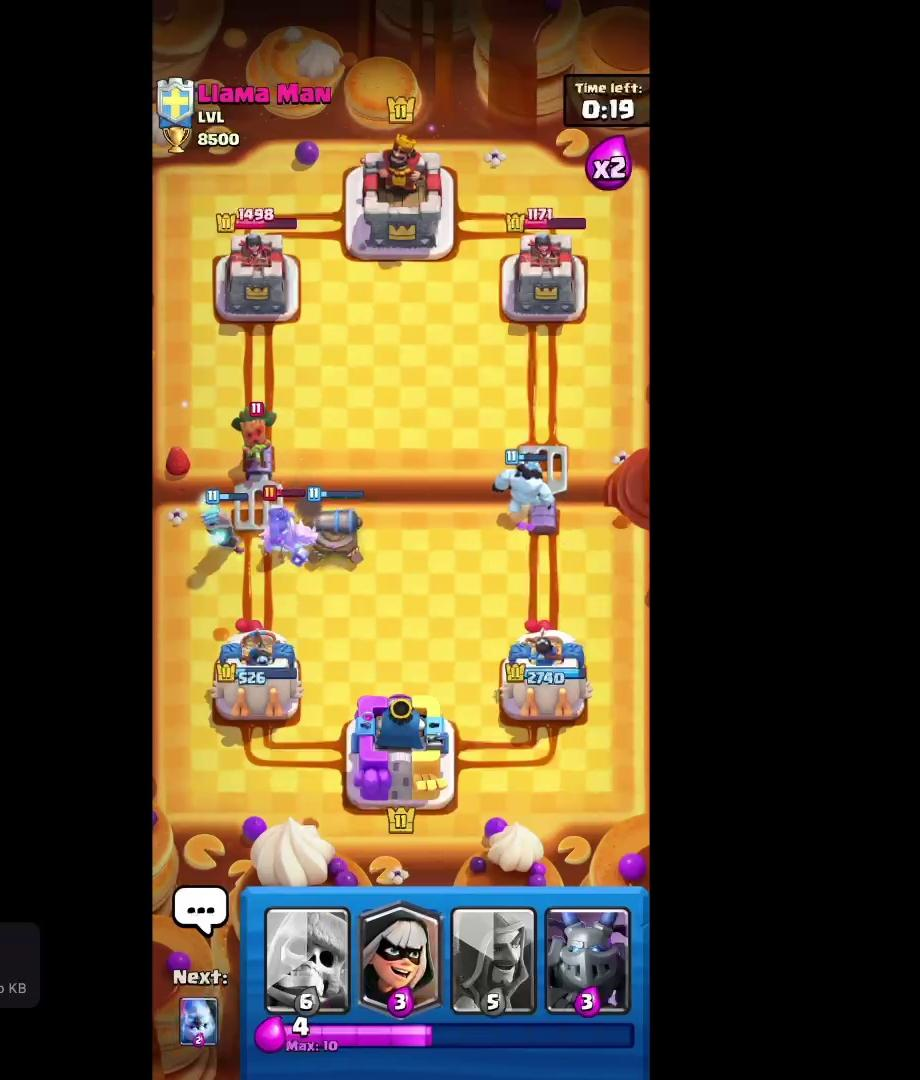Dart Goblin: (225, 401, 295, 473)
Hog Rider: (255, 484, 319, 569)
